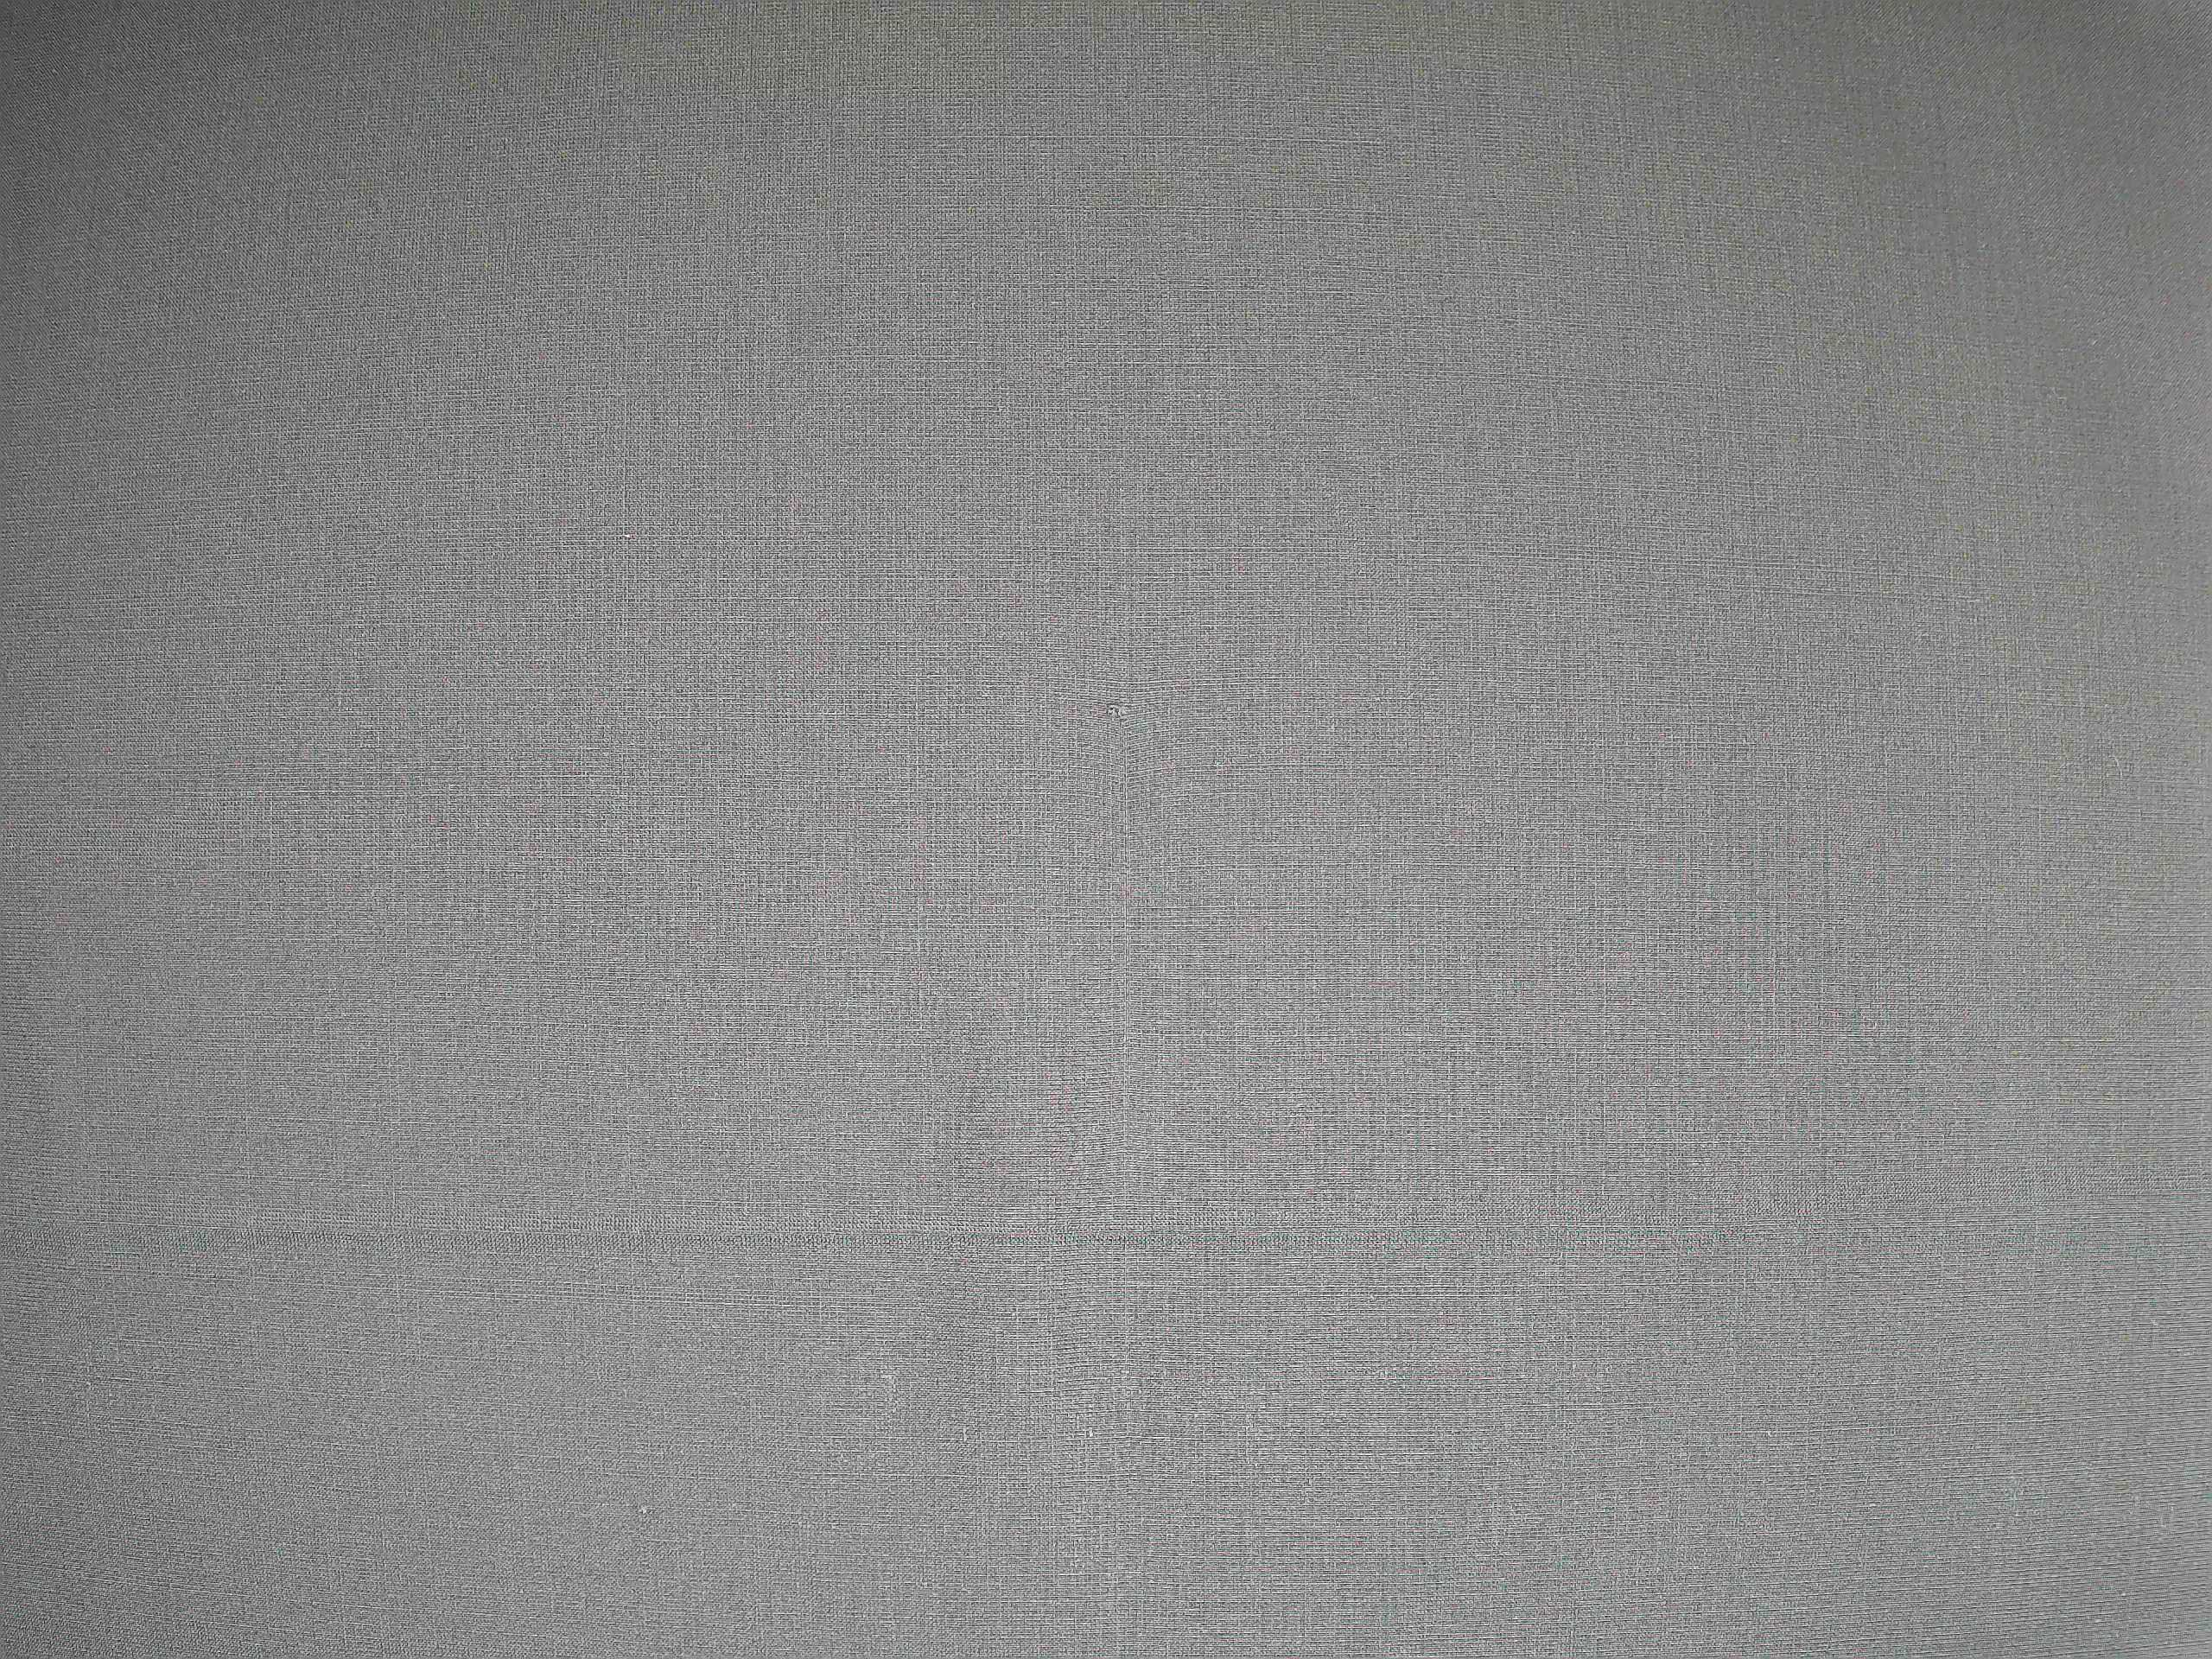dropped_pick: (1096, 694, 1151, 1140)
missing_pick: (0, 1157, 2203, 1272)
